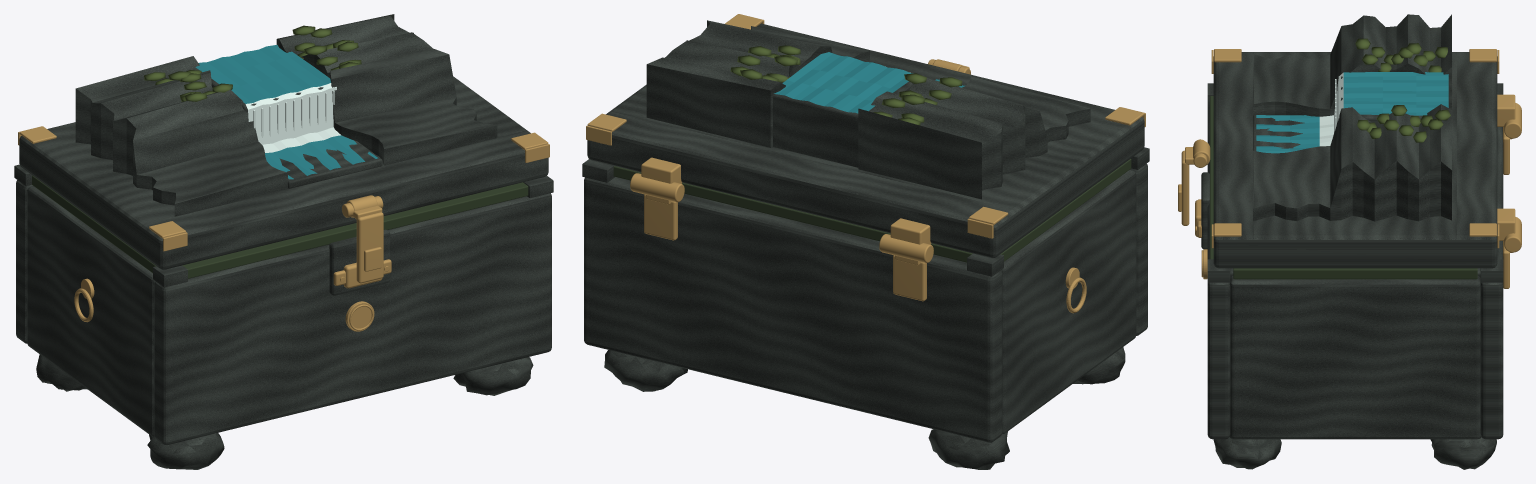
File: zambia.glb
3 renders of one model, left to right at view 1: azimuth 30°, elevation 25°; view 2: azimuth 150°, elevation 25°; view 3: azimuth 270°, elevation 25°, orthographic. The views are drawn at different scales.
Parts seen in each view (by area): view 1: Basalt / front, Lid / polished slab, Basalt / side, Gorge / basalt bank -1, Gorge / basalt bank 1, Zambezi / continuous river and falls, Mineral seam / long, Granite foot, Granite foot.002, Basalt / rear, Gorge / lower channel bed, Basalt / clasp seat (+5 smaller); view 2: Basalt / rear, Lid / polished slab, Basalt / side, Gorge / basalt bank -1, Gorge / basalt bank 1, Zambezi / continuous river and falls, Gorge / upper channel bed, Mineral seam / long.001, Granite foot.001, Granite foot.003, Basalt / front, Mineral seam / side (+9 smaller); view 3: Basalt / side.001, Lid / polished slab, Gorge / basalt bank 1, Gorge / basalt bank -1, Zambezi / continuous river and falls, Basalt / rear, Basalt / front, Mineral seam / side.001, Granite foot.002, Granite foot.003, Gorge / lower channel bed, Mineral seam / long (+12 smaller).
Boxes of the visible parts, x1,y1,x2,y2 form: Basalt / front: (154, 193, 551, 444); Lid / polished slab: (19, 76, 548, 269); Basalt / side: (27, 186, 155, 436); Gorge / basalt bank -1: (75, 56, 287, 216); Gorge / basalt bank 1: (276, 14, 497, 165); Zambezi / continuous river and falls: (195, 45, 378, 179); Mineral seam / long: (182, 182, 528, 278); Granite foot: (147, 433, 224, 469); Granite foot.002: (453, 357, 533, 395); Basalt / rear: (16, 180, 32, 343); Gorge / lower channel bed: (279, 140, 382, 188); Basalt / clasp seat: (329, 229, 390, 295); Basalt / rear: (584, 177, 1002, 442); Lid / polished slab: (587, 23, 1144, 257); Basalt / side: (1001, 170, 1136, 433); Gorge / basalt bank -1: (858, 75, 1090, 199); Gorge / basalt bank 1: (646, 20, 869, 147); Zambezi / continuous river and falls: (774, 52, 965, 113); Gorge / upper channel bed: (773, 61, 911, 167); Mineral seam / long.001: (613, 166, 972, 262); Granite foot.001: (928, 429, 1009, 469); Granite foot.003: (604, 350, 687, 391); Basalt / front: (1130, 163, 1147, 335); Mineral seam / side: (1000, 159, 1131, 261); Basalt / side.001: (1230, 276, 1480, 439); Lid / polished slab: (1213, 52, 1497, 268); Gorge / basalt bank 1: (1253, 104, 1451, 221); Gorge / basalt bank -1: (1253, 14, 1451, 116); Zambezi / continuous river and falls: (1256, 72, 1448, 153); Basalt / rear: (1480, 127, 1503, 439); Basalt / front: (1207, 106, 1230, 439); Mineral seam / side.001: (1233, 268, 1477, 279); Granite foot.002: (1213, 437, 1281, 469); Granite foot.003: (1430, 437, 1496, 469); Gorge / lower channel bed: (1253, 115, 1304, 153); Mineral seam / long: (1210, 96, 1213, 259).
Size of the model in its own units: 3.79 by 2.87 by 2.88.
Materials: 6 (1 with a texture image).
